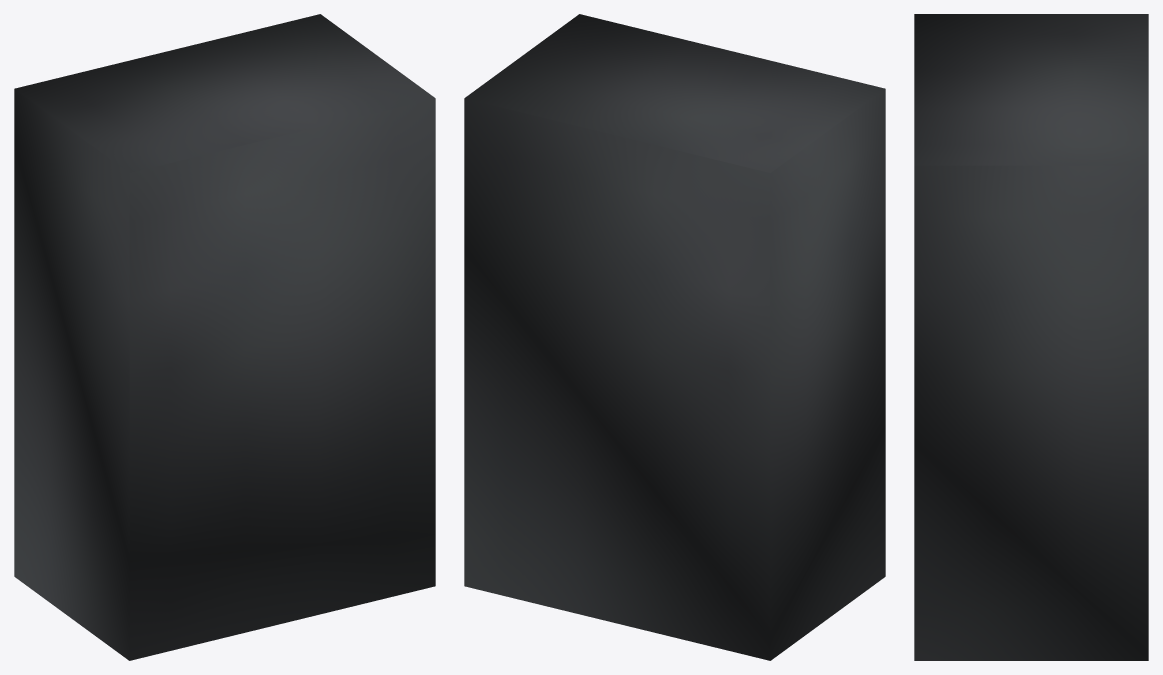
File: pack.agentspace.clothing.uniform.civic.01.glb
3 views of the same model, side by side, from view 1: azimuth 30°, elevation 25°; view 2: azimuth 150°, elevation 25°; view 3: azimuth 270°, elevation 25° (orthographic).
Parts seen in each view (by area): view 1: pack.agentspace.clothing.uniform.civic.01.mesh; view 2: pack.agentspace.clothing.uniform.civic.01.mesh; view 3: pack.agentspace.clothing.uniform.civic.01.mesh.
Part boxes in pixels (bbox=[...]): pack.agentspace.clothing.uniform.civic.01.mesh: bbox=[14, 14, 435, 660]; pack.agentspace.clothing.uniform.civic.01.mesh: bbox=[464, 14, 885, 660]; pack.agentspace.clothing.uniform.civic.01.mesh: bbox=[914, 14, 1148, 660].
Bounding box in the file's own units: 0.46 × 0.7 × 0.3.
1 material, 1 textured.
